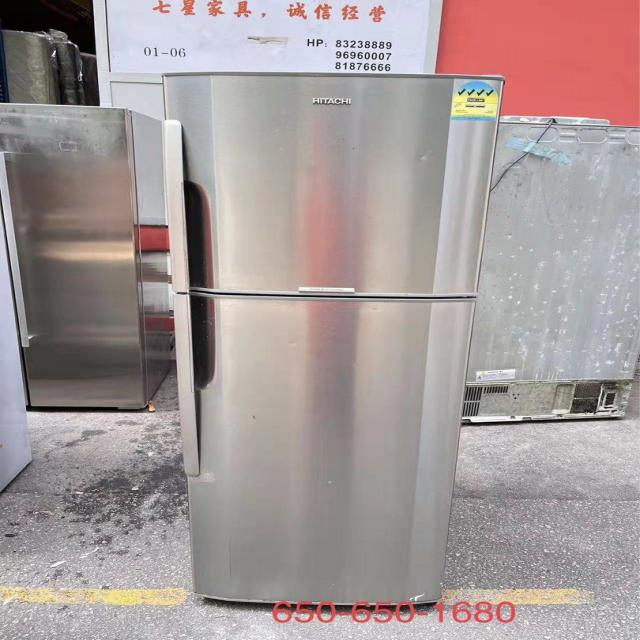refrigerator: (159, 70, 507, 611)
